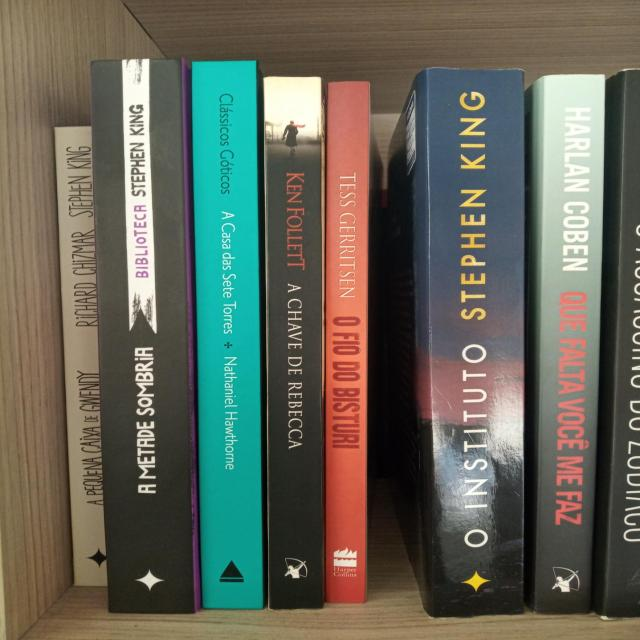book: (428, 64, 520, 613), (120, 63, 184, 602), (546, 72, 604, 609), (203, 69, 250, 601), (270, 78, 316, 610), (324, 77, 365, 608), (616, 76, 640, 610), (72, 142, 85, 586)
